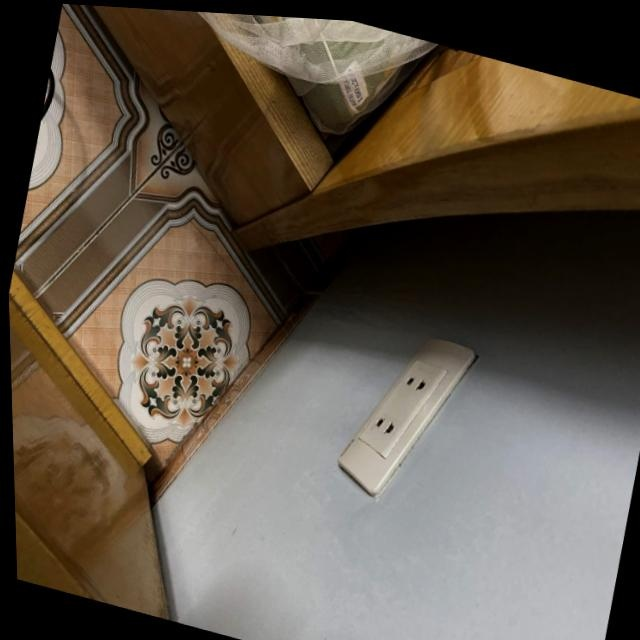outlet: (327, 314, 484, 519)
